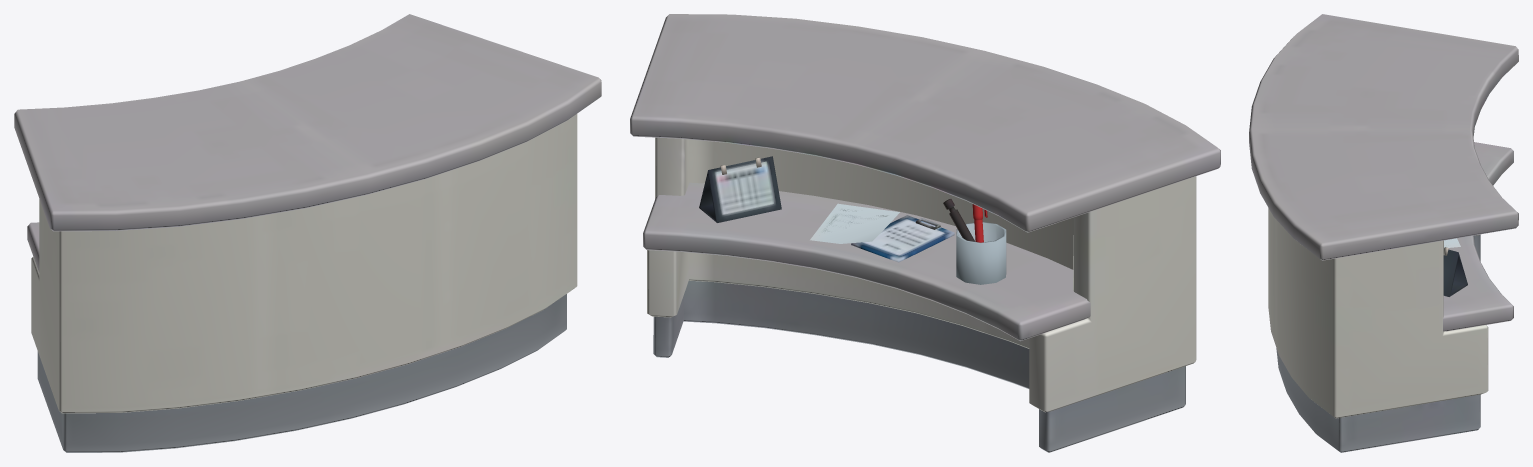
The picture shows the model from 3 angles, left to right: view 1: azimuth 30°, elevation 25°; view 2: azimuth 150°, elevation 25°; view 3: azimuth 270°, elevation 25°; orthographic projection. The views are drawn at different scales.
Bounding box in the file's own units: 19.81 × 8.79 × 9.76.
Materials: 1 (1 with a texture image).
